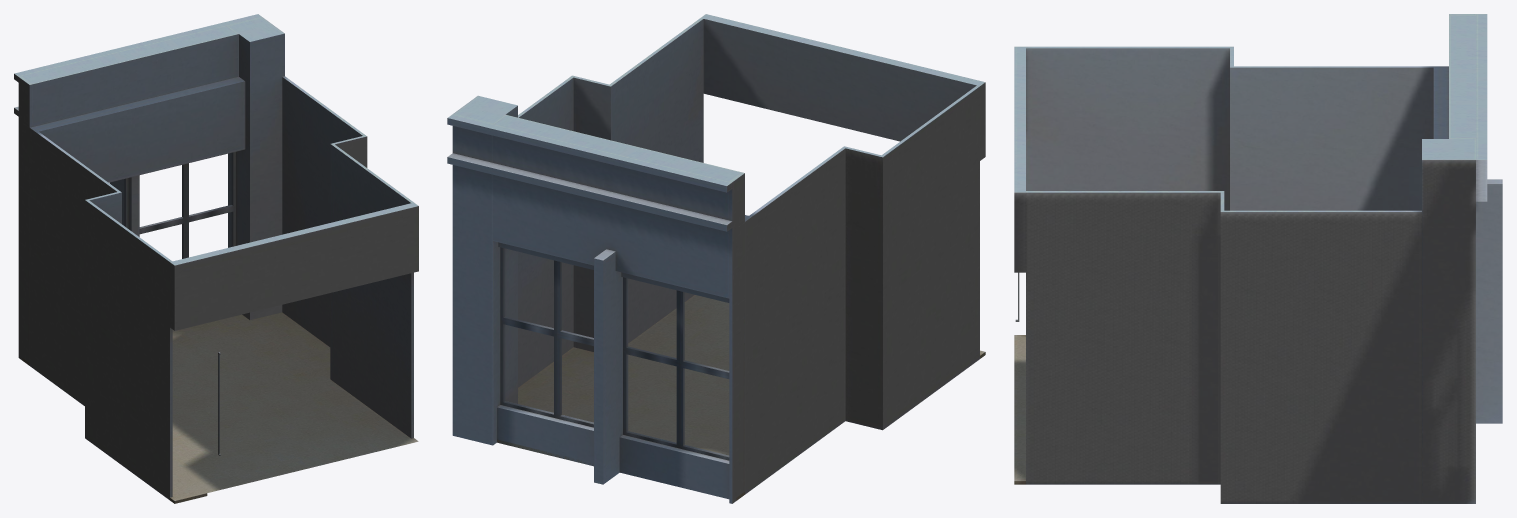
3 renders of one model, left to right at view 1: azimuth 30°, elevation 25°; view 2: azimuth 150°, elevation 25°; view 3: azimuth 270°, elevation 25°, orthographic. The views are drawn at different scales.
Parts seen in each view (by area): view 1: hc_2floor_room011_0; view 2: hc_2floor_room011_0; view 3: hc_2floor_room011_0.
Part boxes in pixels (x1,y1,x2,y2): hc_2floor_room011_0: (14, 14, 418, 503); hc_2floor_room011_0: (447, 14, 985, 503); hc_2floor_room011_0: (1014, 14, 1502, 503).
Bounding box in the file's own units: 0.5096 × 0.4943 × 0.6361.
Materials: 1 (1 with a texture image).
